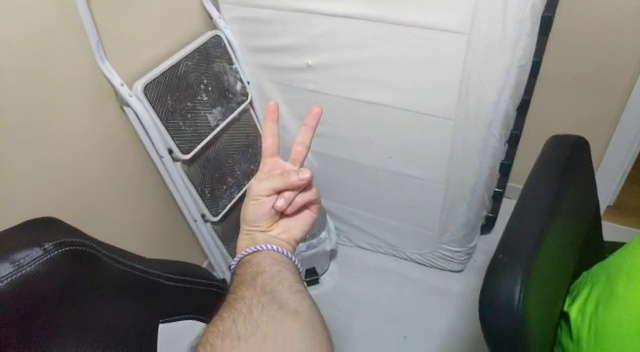Peace: (231, 98, 349, 239)
